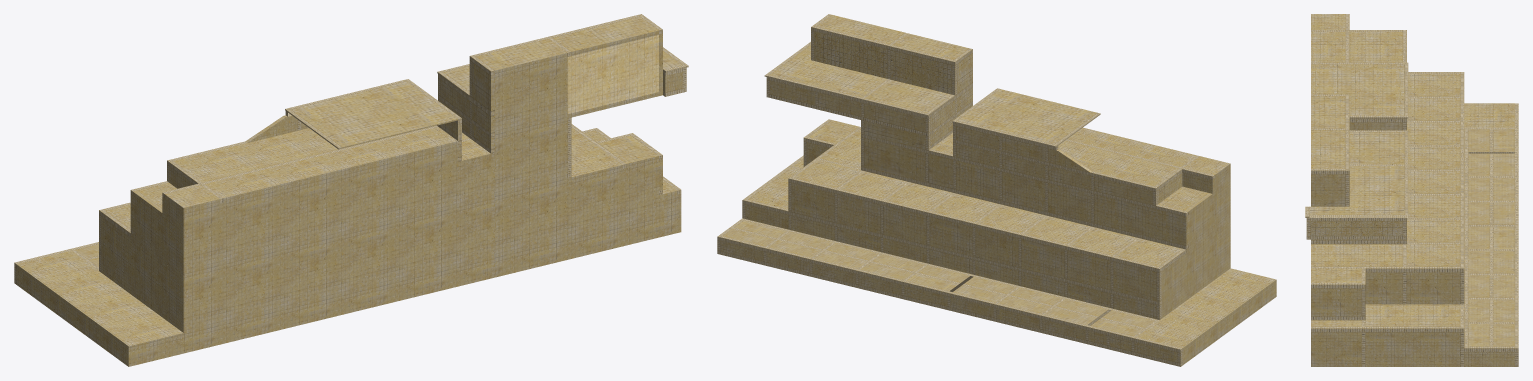
File: tutorial_structure_base_pt04.dae
3 views of the same model, side by side, from view 1: azimuth 30°, elevation 25°; view 2: azimuth 150°, elevation 25°; view 3: azimuth 270°, elevation 25° (orthographic). The views are drawn at different scales.
Parts seen in each view (by area): view 1: tutorial_structure_base_pt04; view 2: tutorial_structure_base_pt04; view 3: tutorial_structure_base_pt04.
Part boxes in pixels (x1,y1,x2,y2): tutorial_structure_base_pt04: [14, 14, 688, 366]; tutorial_structure_base_pt04: [717, 14, 1276, 366]; tutorial_structure_base_pt04: [1305, 14, 1518, 366].
Size of the model in its own units: 103 by 37.79 by 36.74.
2 materials, 2 textured.
